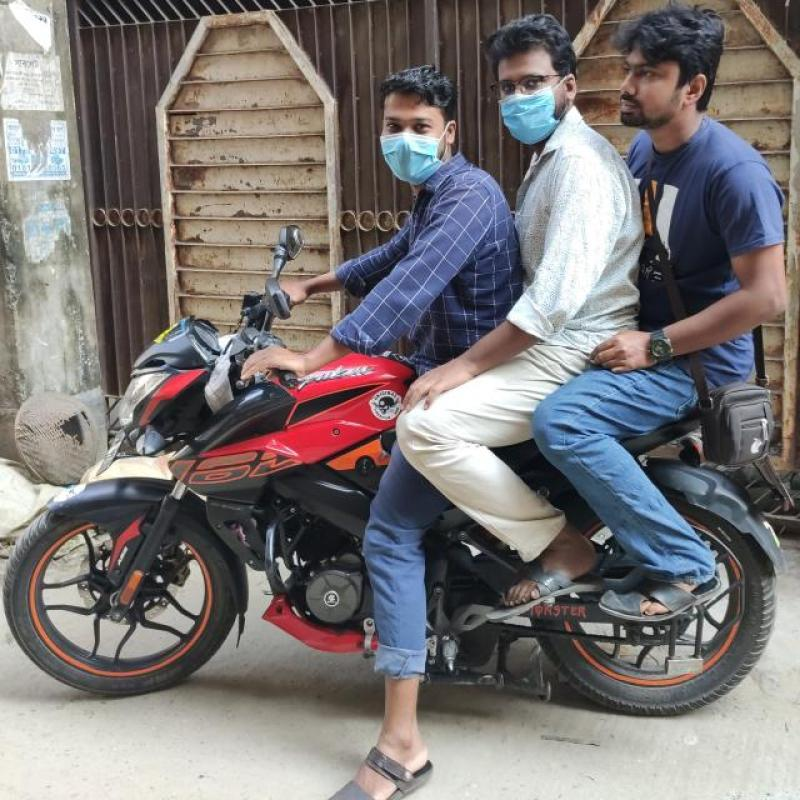nohelmet: (608, 10, 716, 144), (480, 10, 584, 134), (372, 70, 477, 186)
